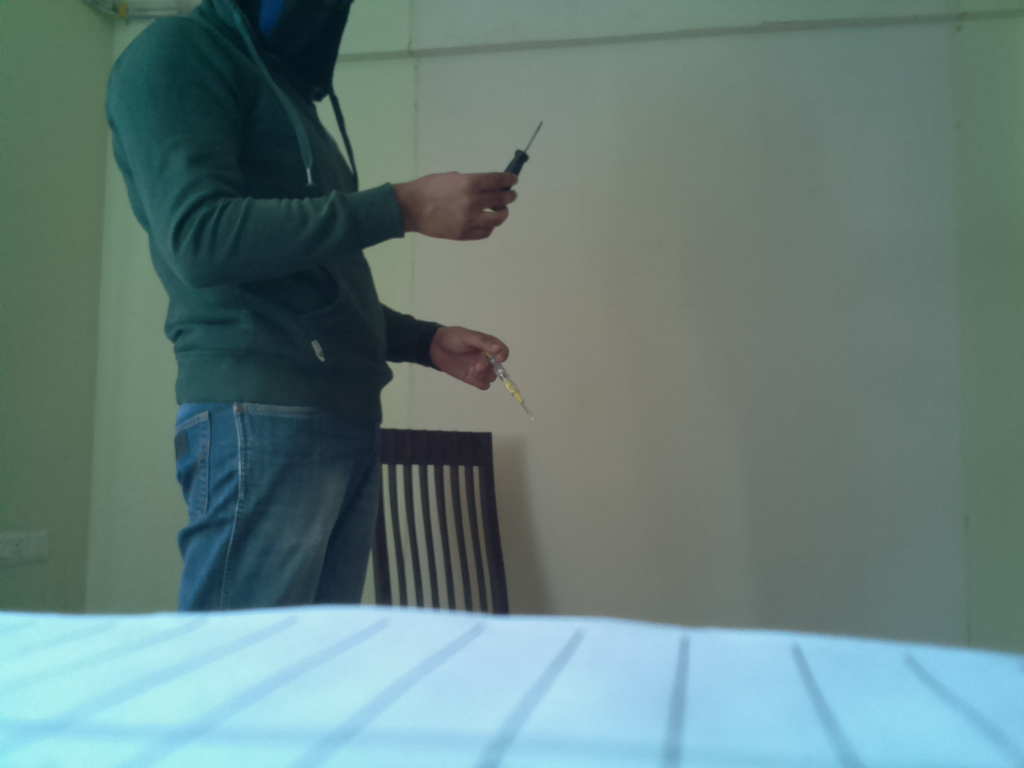none3: (497, 114, 557, 206), (475, 350, 540, 420)
